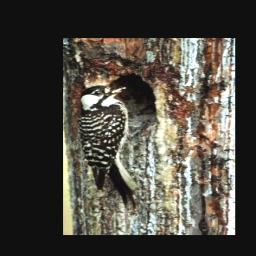Woodpecker: (79, 83, 140, 208)
